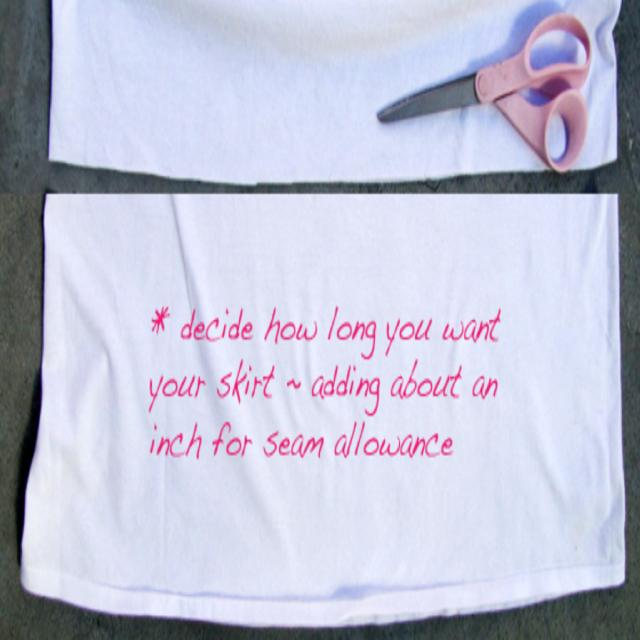scissors: (376, 11, 591, 172)
